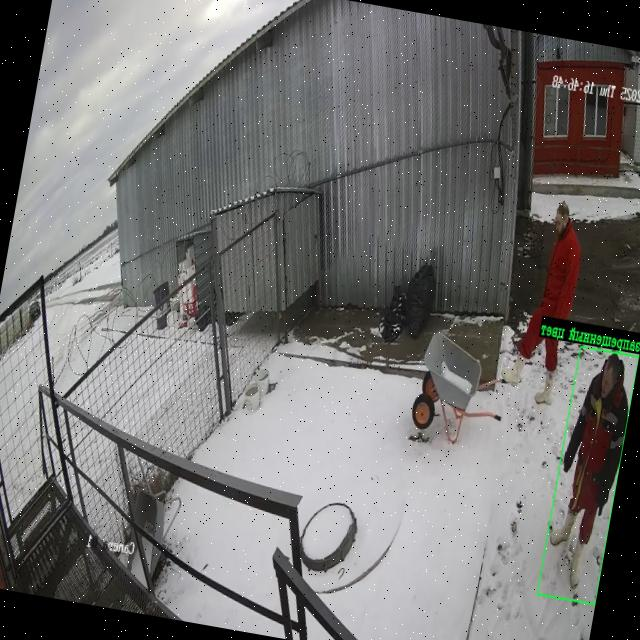Person: (406, 372, 441, 444)
Red uniform: (550, 354, 629, 588), (513, 201, 580, 382), (535, 339, 558, 403)
